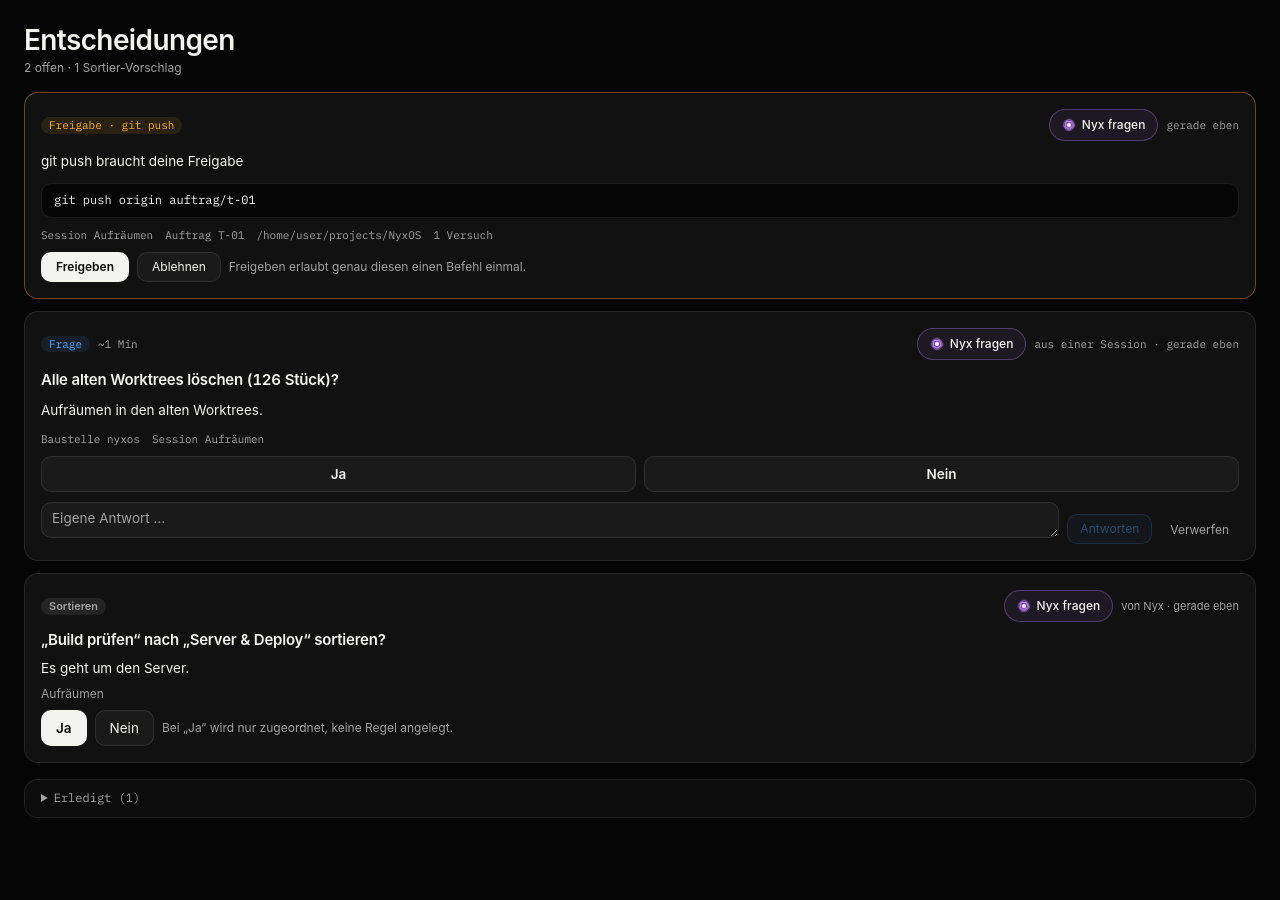
Test case: Nyx fragen an jeder Karte › Einschätzung zeigt genau drei Teile und öffnet NICHT die Großansicht
Click the button "Nyx fragen" next to "von Nyx" at (1058,606), box x1=1004 y1=590 x2=1113 y2=622
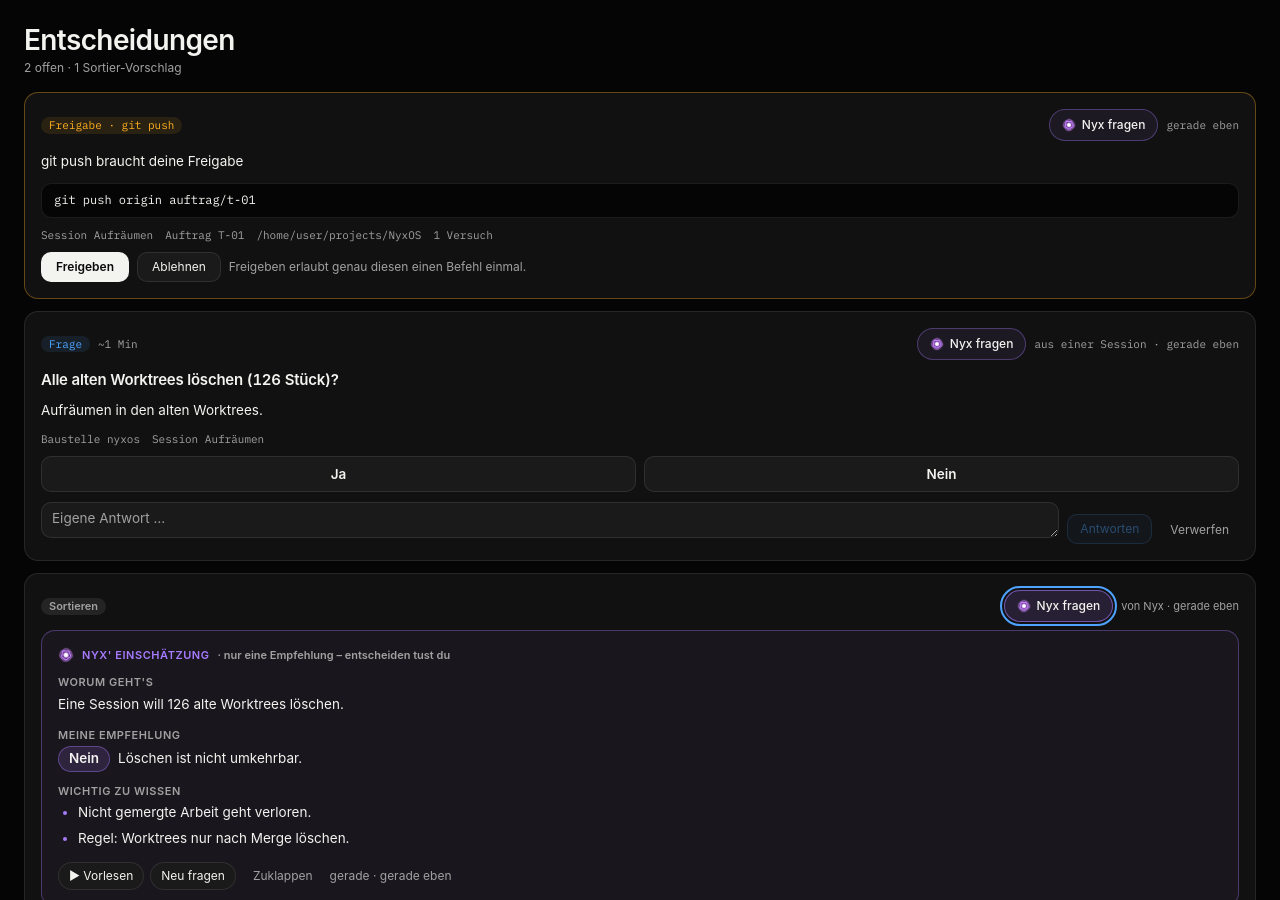
Expected: the text "Eine Session will 126 alte Worktrees löschen." is shown, x1=58 y1=696 x2=344 y2=712
Expected: the heading "Worum geht's" is shown, x1=58 y1=676 x2=153 y2=690
Expected: the heading "Meine Empfehlung" is shown, x1=58 y1=728 x2=181 y2=742
